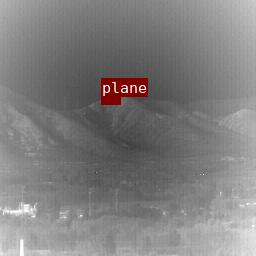plane: (101, 97, 120, 104)
